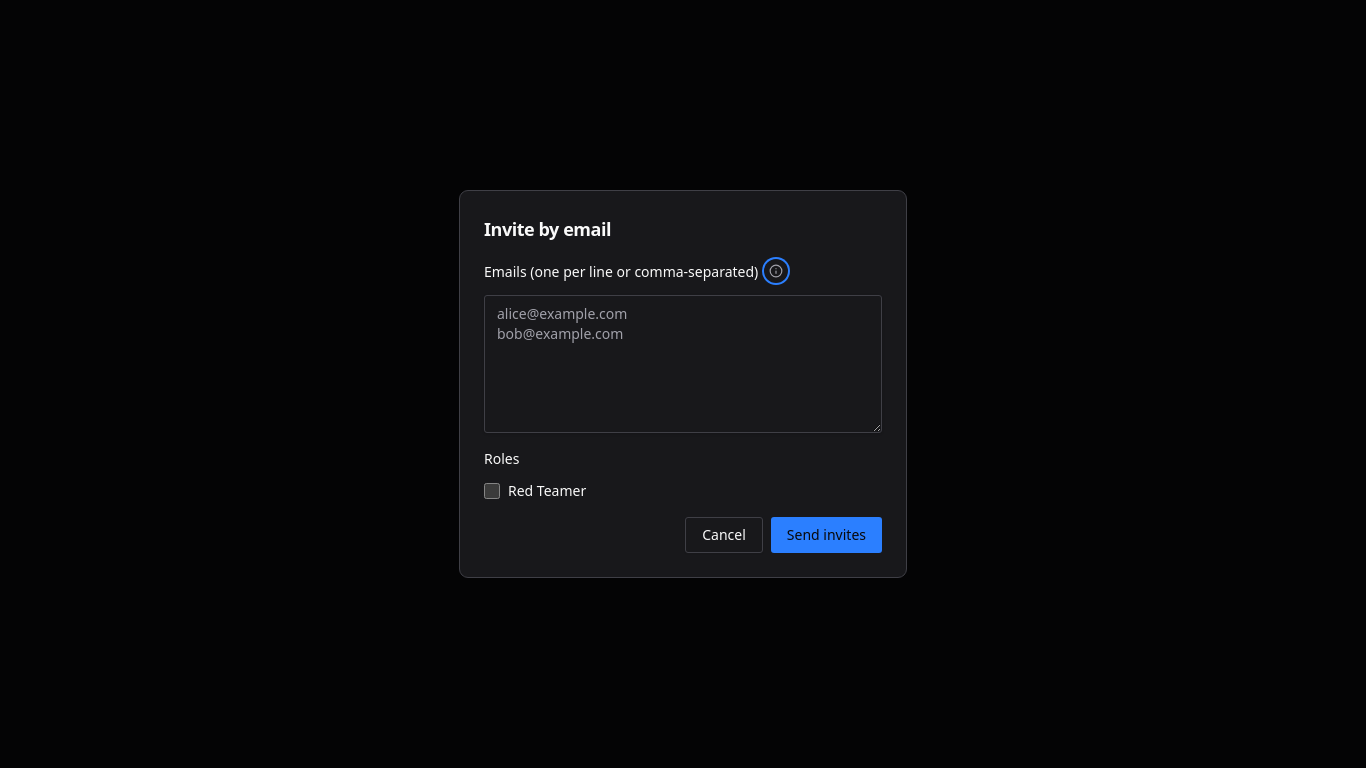
evaluation-groups BulkInviteDialog — validation + dedup › blocks submit and shows an error when an email is malformed (no request sent)
Check: the text "Red Teamer" is shown, box 484,481 -> 586,500
In the text box labelled "Emails (one per line or comma-separated)": (683, 364) 484,295 -> 882,433, type "notanemail"
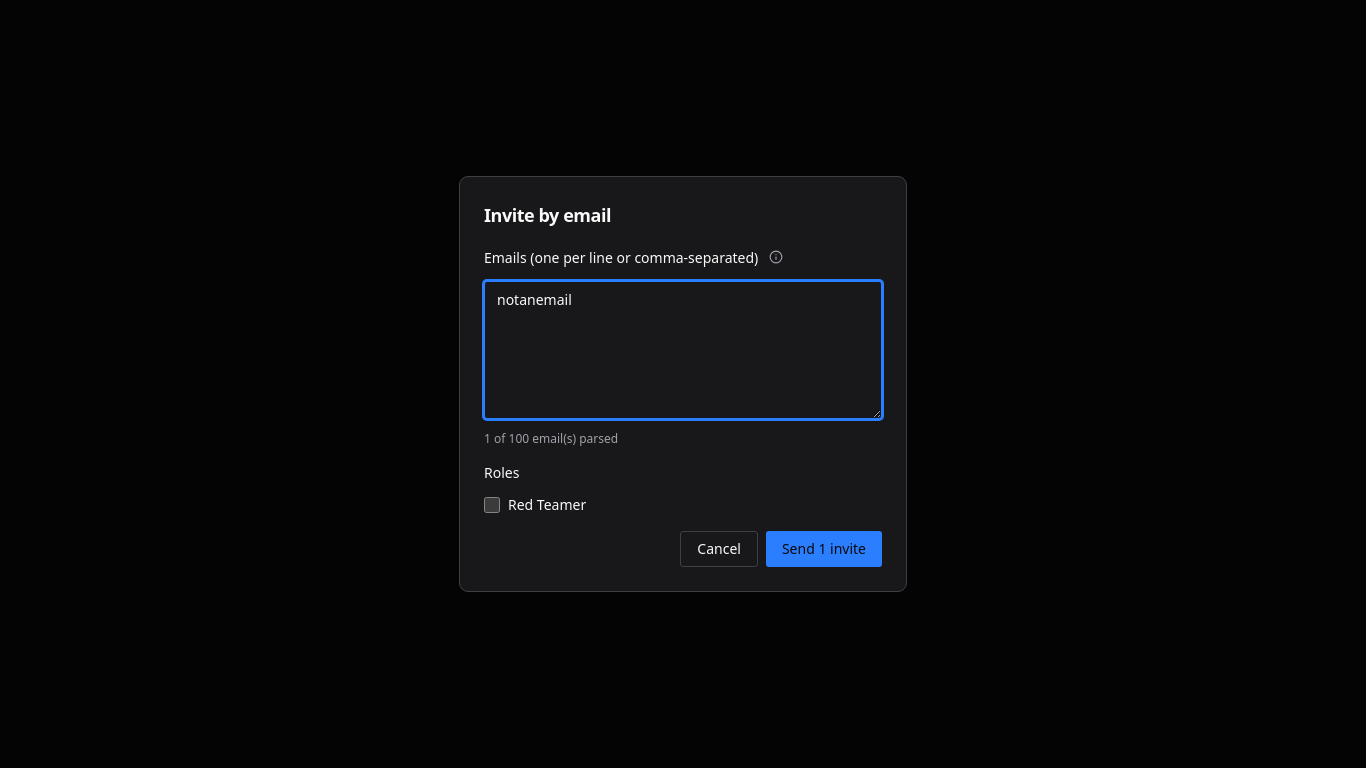
Click the checkbox labelled "Red Teamer": click(492, 505) 484,497 -> 500,513
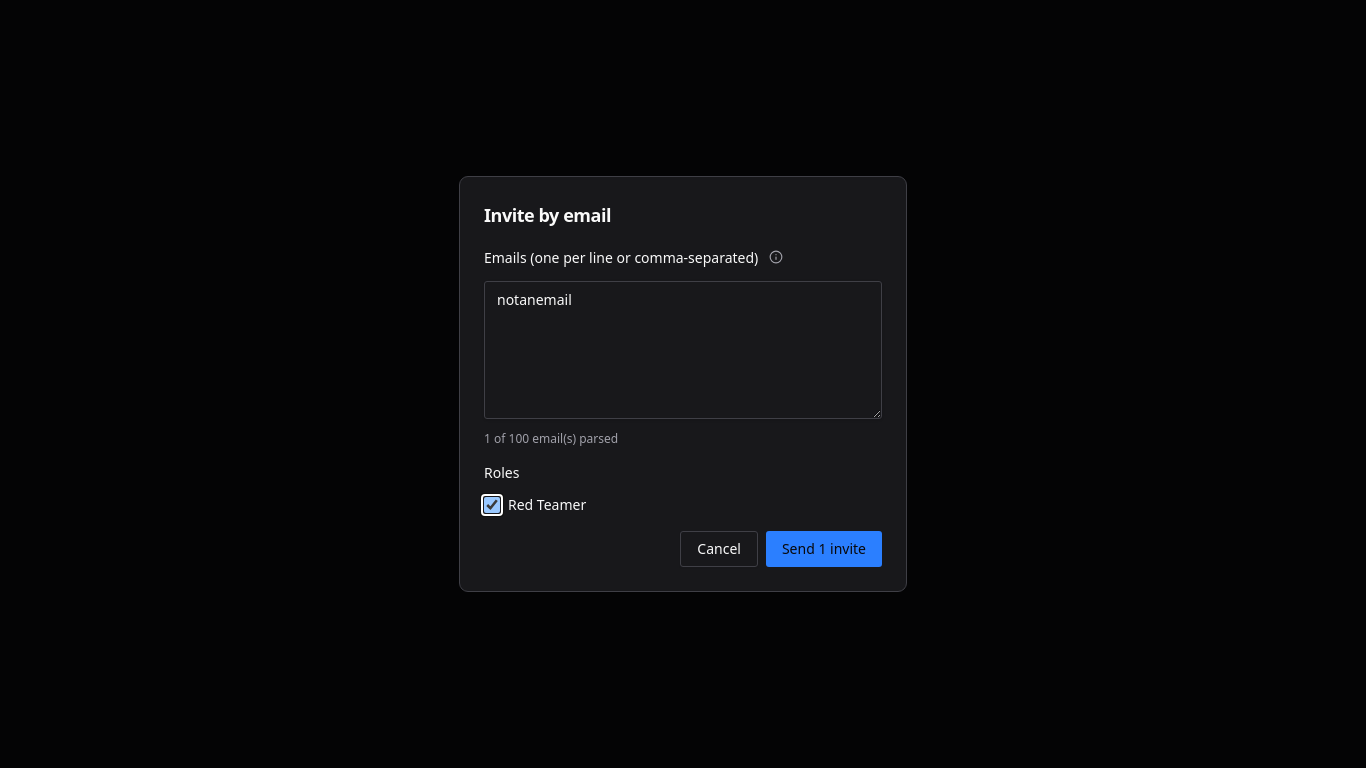
Click the button "Send 1 invite": click(824, 549) 766,531 -> 882,567
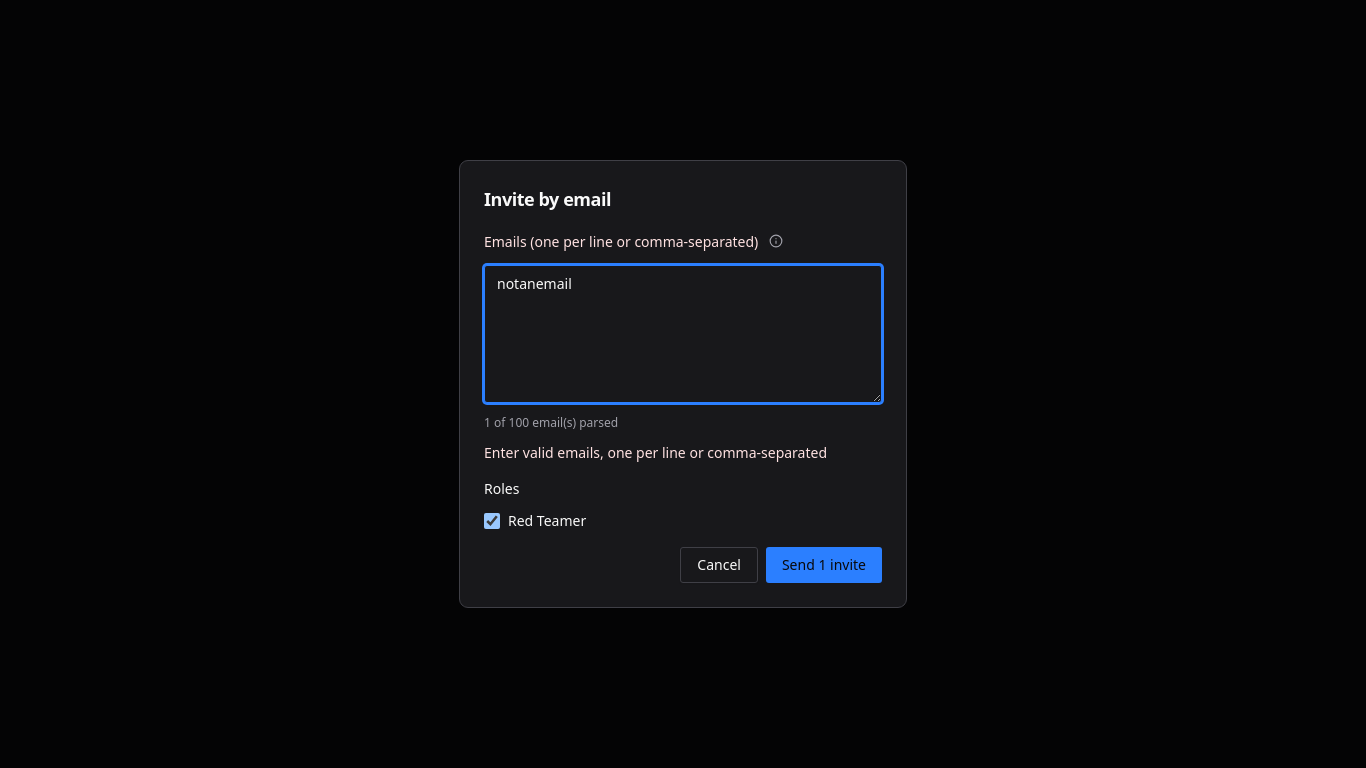
Check: the text "Enter valid emails, one per line or comma-separated" is shown, box 484,443 -> 882,463
